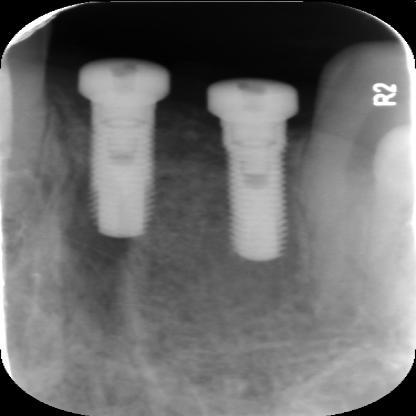Bego: (73, 98, 165, 240), (212, 119, 291, 265)
